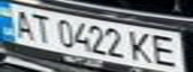0: (51, 16, 75, 48)
2: (103, 25, 127, 60), (84, 22, 106, 56)
4: (69, 19, 90, 53)
A: (6, 7, 39, 40)
E: (148, 31, 187, 69)
K: (127, 29, 157, 65)
T: (27, 11, 57, 44)
